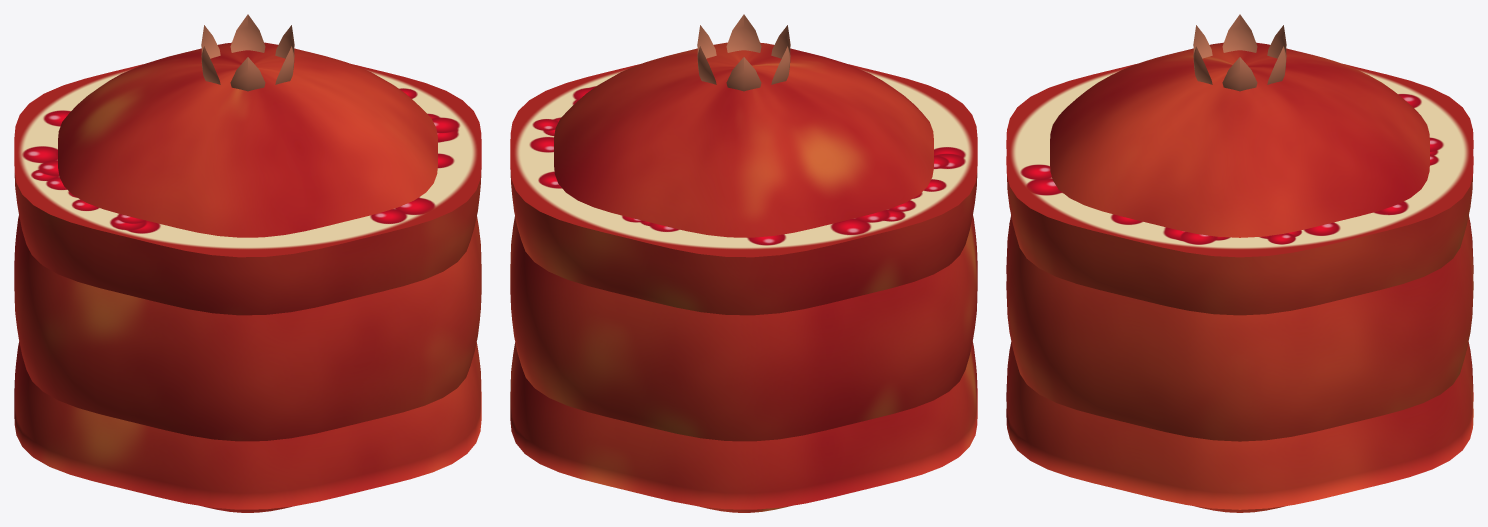
File: pomegranate.glb
3 renders of one model, left to right at view 1: azimuth 30°, elevation 25°; view 2: azimuth 150°, elevation 25°; view 3: azimuth 270°, elevation 25°, orthographic.
Visible parts, largest first — view 1: whole, bot, top; view 2: whole, bot, top; view 3: whole, bot, top.
Boxes of the visible parts, x1,y1,x2,y2 form: whole: [14, 14, 481, 512]; bot: [14, 64, 481, 315]; top: [14, 341, 481, 509]; whole: [510, 14, 977, 512]; bot: [510, 64, 977, 315]; top: [510, 341, 977, 509]; whole: [1006, 14, 1473, 512]; bot: [1006, 64, 1473, 315]; top: [1006, 342, 1473, 509].
Size of the model in its own units: 0.7828 by 0.7655 by 0.7375.
3 materials, 2 textured.
